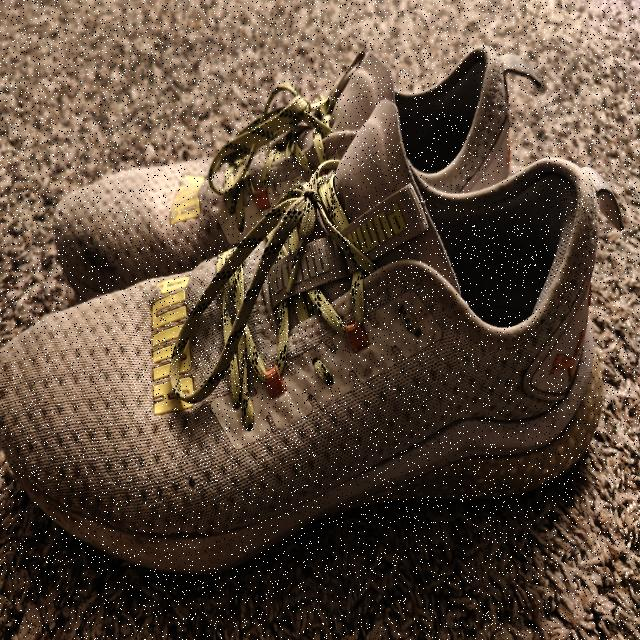white shoes: (1, 51, 615, 574)
